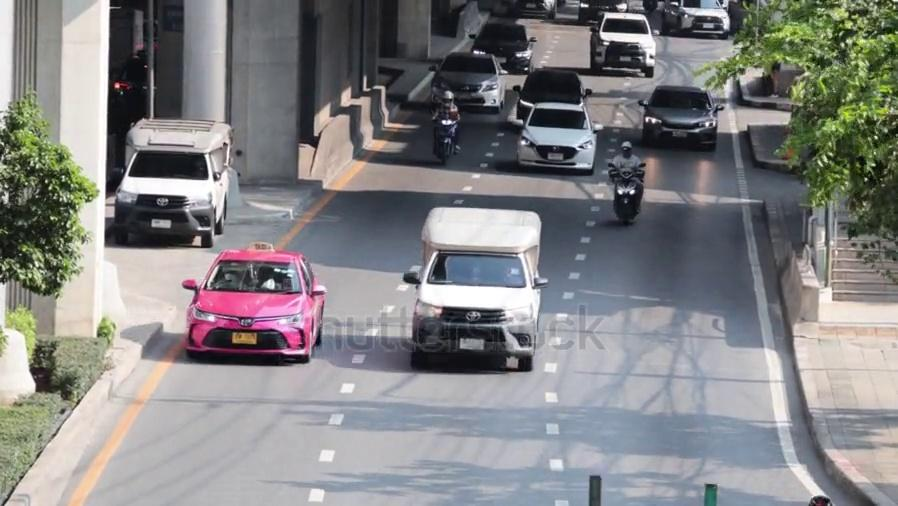rider: (607, 134, 649, 232), (430, 90, 461, 156)
with_helmate: (443, 91, 454, 108), (619, 141, 632, 155)
